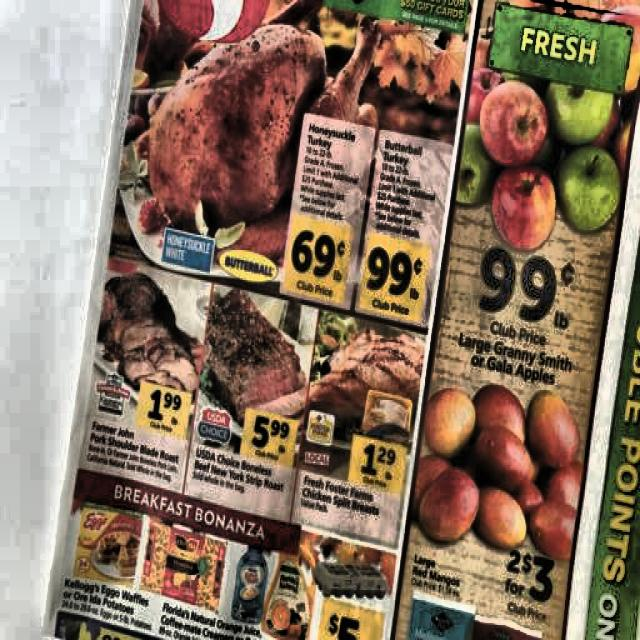paper: (107, 1, 640, 640)
